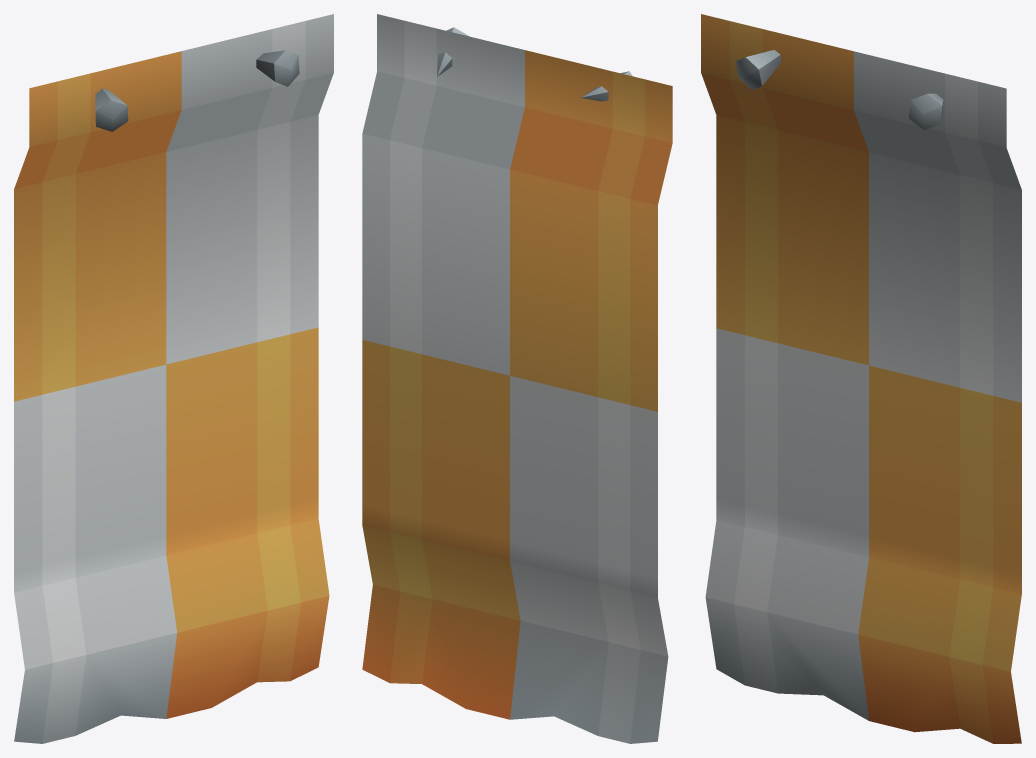
File: banner_patternA_yellow.glb
3 views of the same model, side by side, from view 1: azimuth 30°, elevation 25°; view 2: azimuth 150°, elevation 25°; view 3: azimuth 330°, elevation 25° (orthographic). The views are drawn at different scales.
Parts seen in each view (by area): view 1: banner_patternA_yellow; view 2: banner_patternA_yellow; view 3: banner_patternA_yellow.
Part boxes in pixels (box(x1,y1,x2,y2)): banner_patternA_yellow: box(14, 14, 333, 743); banner_patternA_yellow: box(362, 14, 672, 743); banner_patternA_yellow: box(701, 14, 1021, 743).
Bounding box in the file's own units: 1.5 × 3.2 × 0.3119.
1 material, 1 textured.
